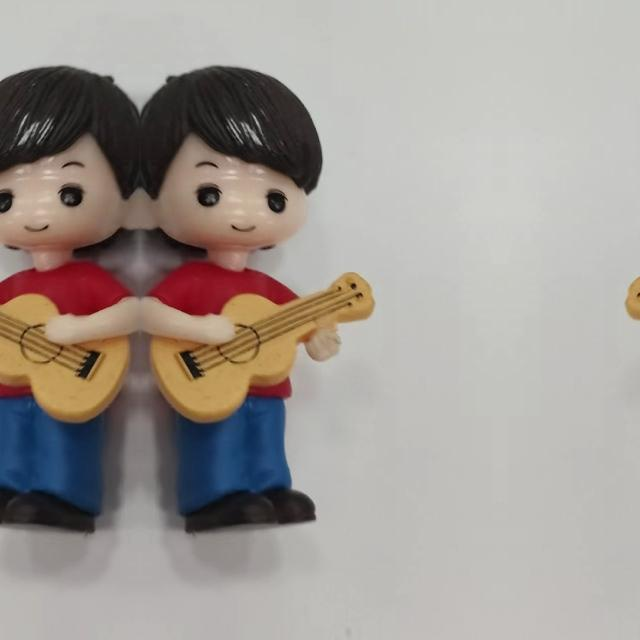man cloth: (149, 258, 325, 402), (0, 258, 131, 401)
man head: (140, 64, 324, 256), (0, 64, 140, 256)
trousers: (171, 399, 325, 541), (0, 399, 109, 541)
